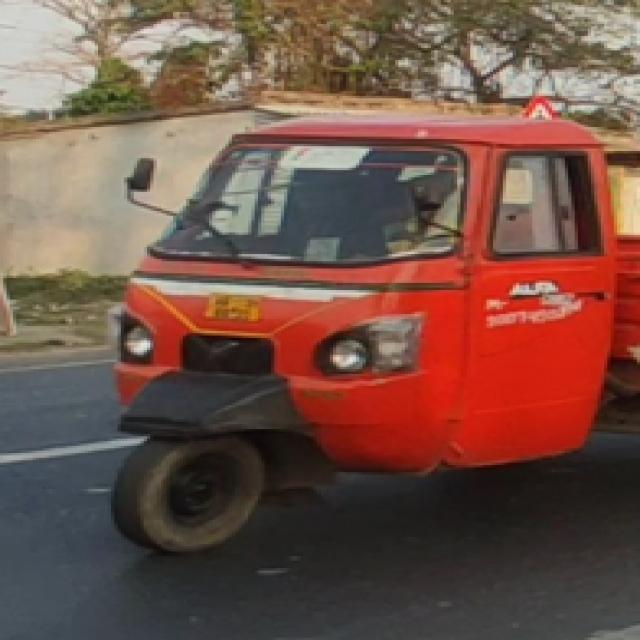autorickshaw: (85, 86, 640, 573)
